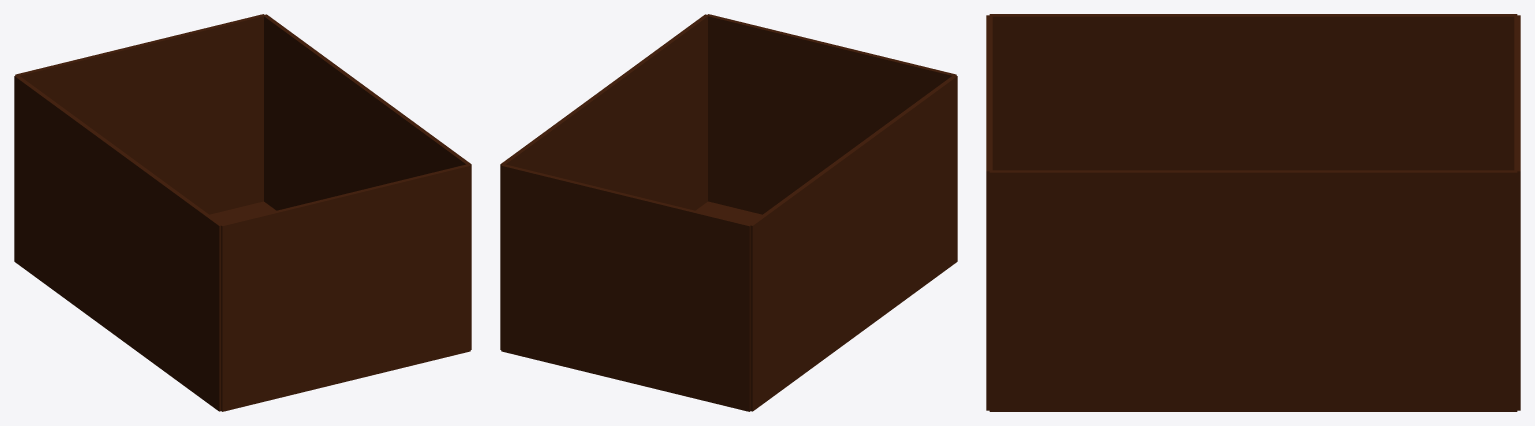
File: game_room_empty.glb
3 renders of one model, left to right at view 1: azimuth 30°, elevation 25°; view 2: azimuth 150°, elevation 25°; view 3: azimuth 270°, elevation 25°, orthographic. The views are drawn at different scales.
Visible parts, largest first — view 1: Cube.002, Cube, Cube.001, Cube.003, Plane.001; view 2: Cube.001, Cube, Cube.002, Cube.003, Plane.001; view 3: Cube.003, Cube, Cube.001, Cube.002.
Boxes of the visible parts, x1,y1,x2,y2 form: Cube.002: (220,164,470,411); Cube: (14,75,222,411); Cube.001: (15,14,265,214); Cube.003: (264,14,471,349); Plane.001: (209,201,276,223); Cube.001: (501,164,750,411); Cube: (749,75,957,411); Cube.002: (706,14,956,214); Cube.003: (500,14,708,349); Plane.001: (695,201,762,223); Cube.003: (989,170,1517,411); Cube: (989,14,1517,170); Cube.001: (1514,15,1520,410); Cube.002: (986,15,992,410).
Bounding box in the file's own units: 14.23 × 10 × 20.23.
